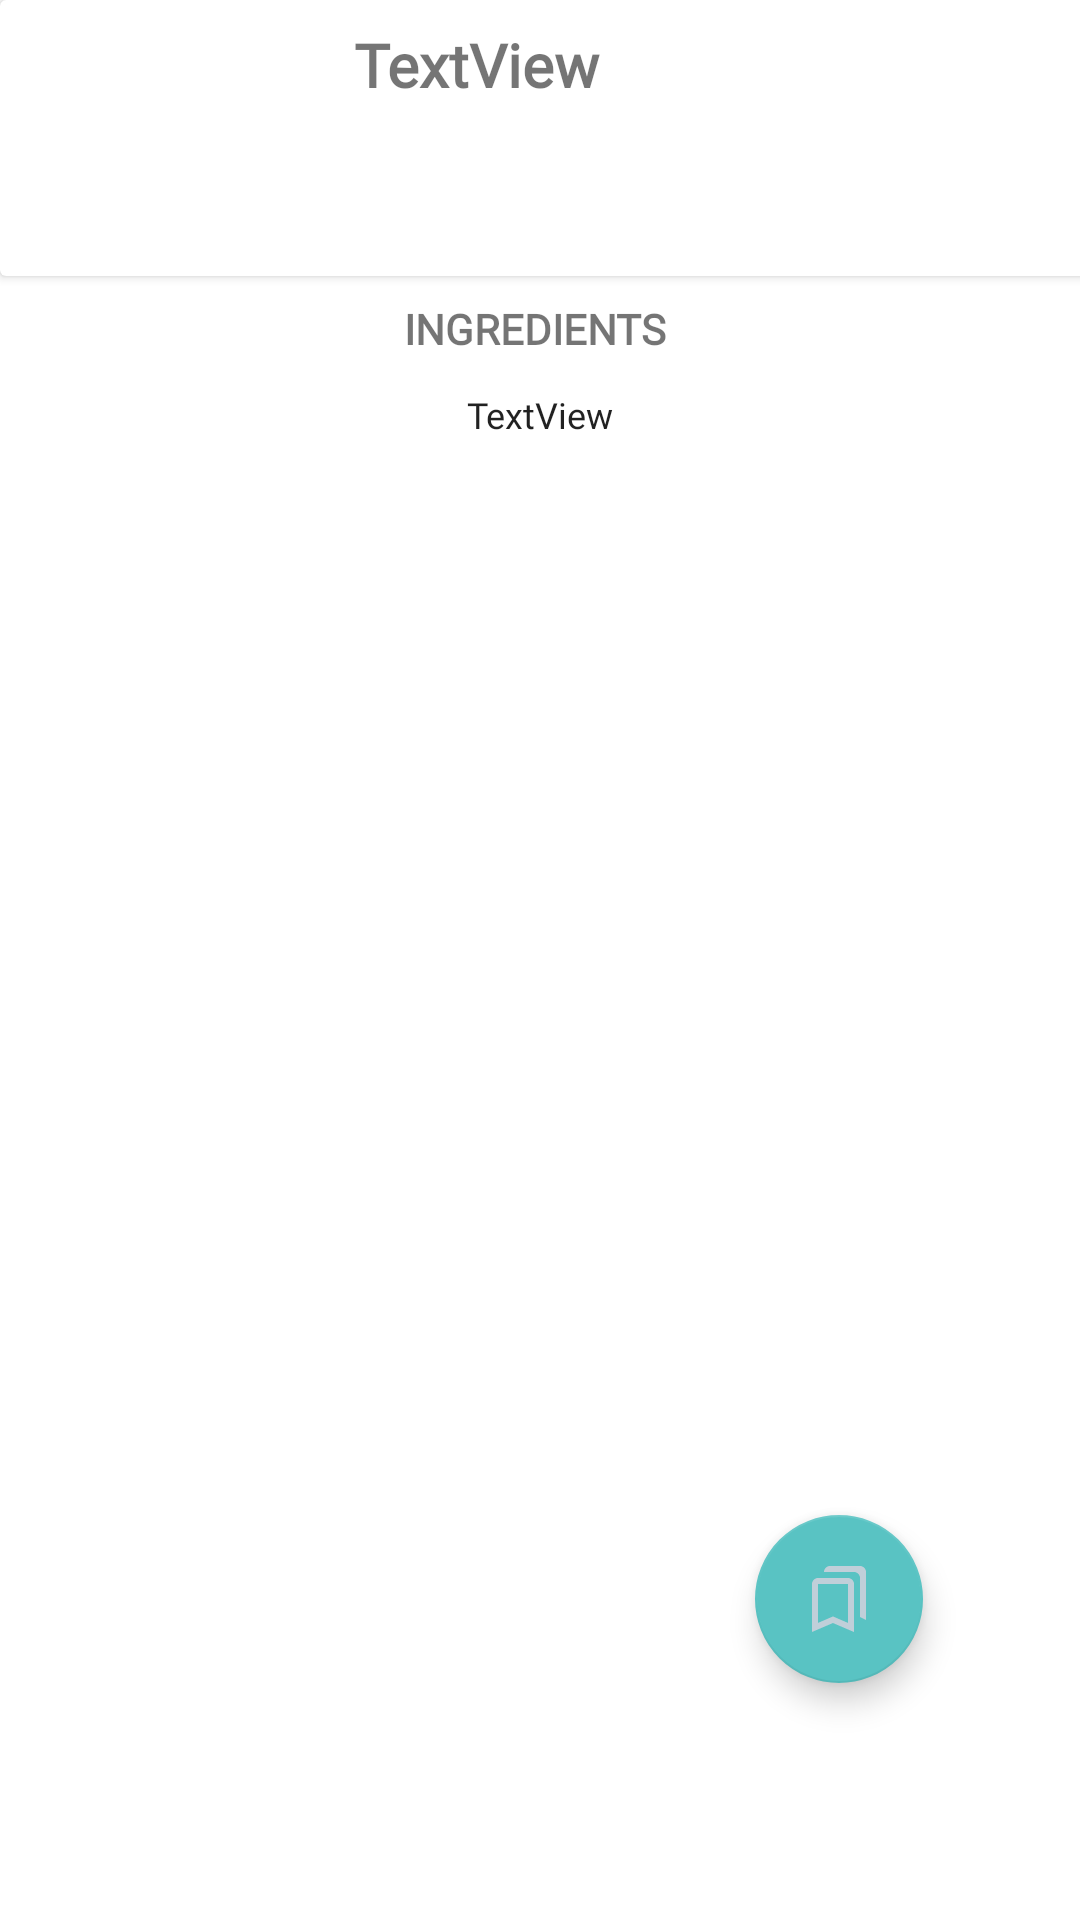

Icons on this 1080×1920 Android screen, each with its box as (x1, y1, x2, y2):
bookmarks: (755, 1515, 923, 1683)
